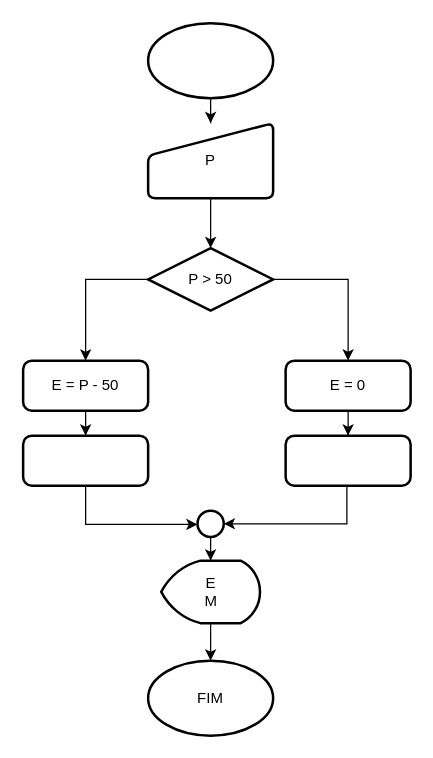
This 433x758 diagram has some shape labels left out. The centre of each missing label's shape, as x and y in pixels:
"INICIO" goes at point 210,60.
"M = 0" goes at point 347,460.
"M = E * 4" goes at point 85,460.
